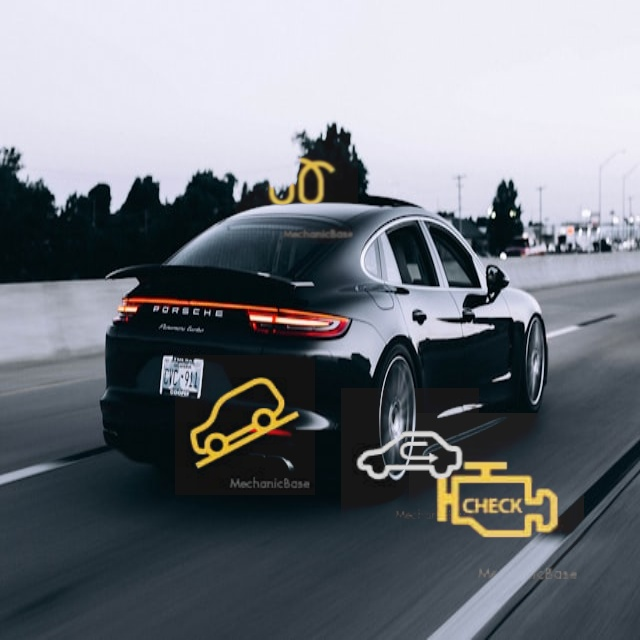symbol: (409, 413, 584, 588), (175, 355, 315, 495), (341, 388, 479, 526), (235, 121, 358, 244)
